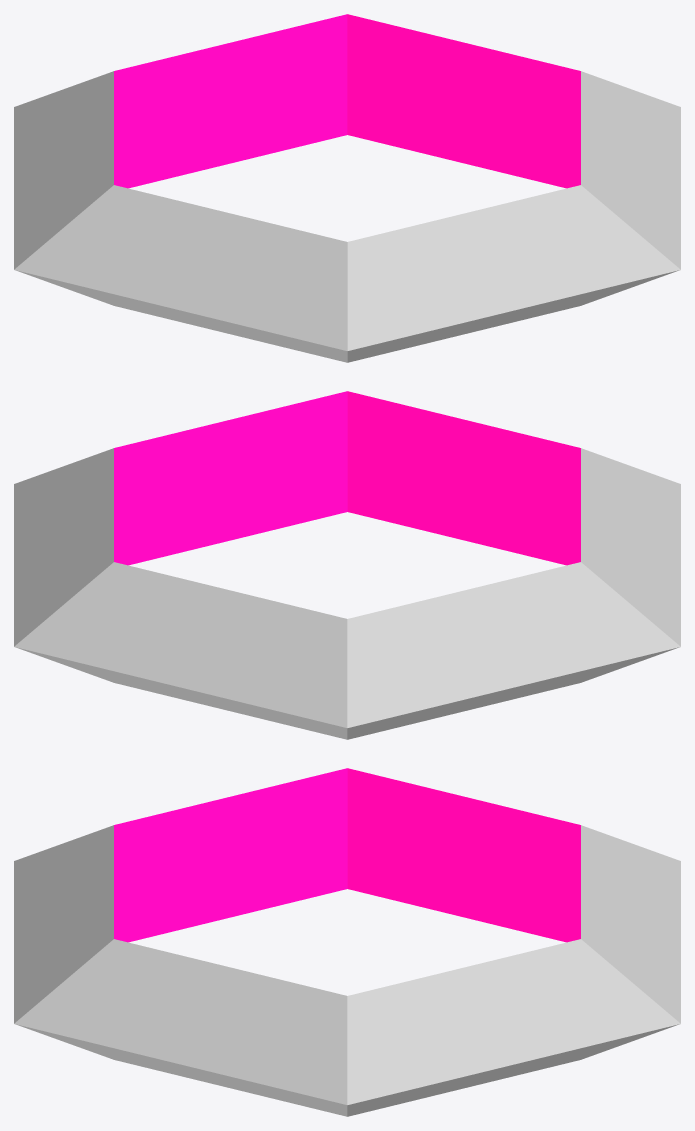
The model's file is enemy2.fbx.
The picture shows the model from 3 angles, top to bottom: view 1: azimuth 30°, elevation 25°; view 2: azimuth 150°, elevation 25°; view 3: azimuth 270°, elevation 25°; orthographic projection.
Visible parts, largest first — view 1: Torus.003; view 2: Torus.003; view 3: Torus.003.
Boxes of the visible parts, x1,y1,x2,y2 form: Torus.003: (14,14,680,362); Torus.003: (14,391,680,739); Torus.003: (14,768,680,1116).
Size of the model in its own units: 250 by 43.3 by 217.
